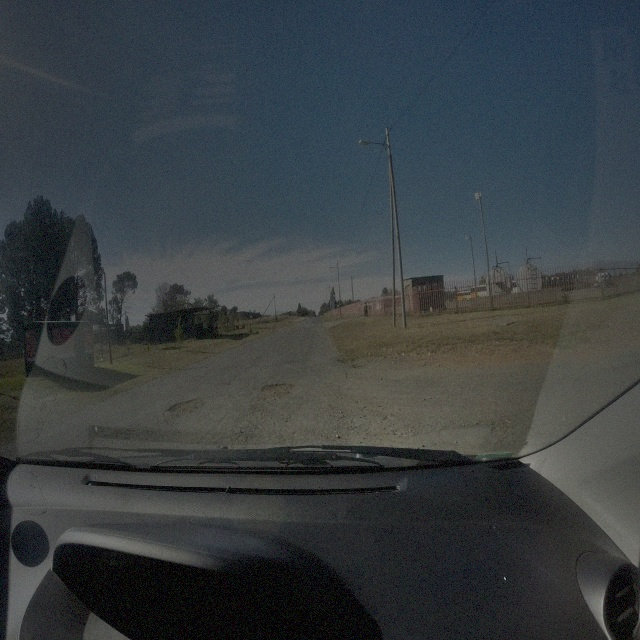pothole: (166, 396, 206, 414), (260, 382, 294, 395)
